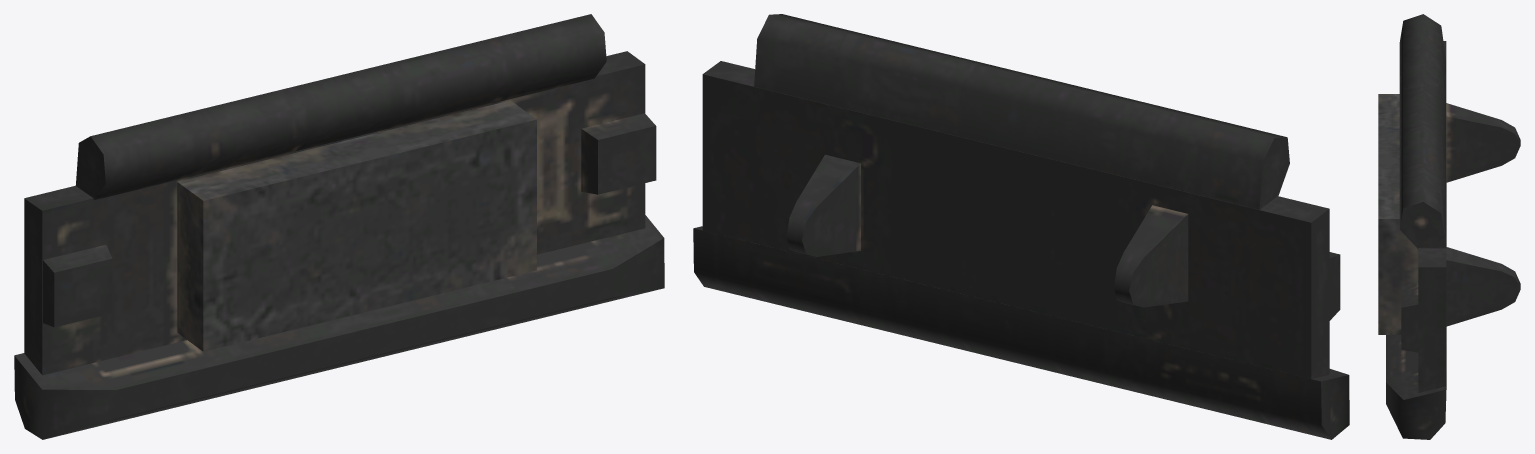
The picture shows the model from 3 angles, left to right: view 1: azimuth 30°, elevation 25°; view 2: azimuth 150°, elevation 25°; view 3: azimuth 270°, elevation 25°; orthographic projection. The views are drawn at different scales.
Visible parts, largest first — view 1: set_0_group_0; view 2: set_0_group_0; view 3: set_0_group_0.
Boxes of the visible parts, x1=… form: set_0_group_0: x1=14, y1=14, x2=664, y2=439; set_0_group_0: x1=693, y1=14, x2=1349, y2=439; set_0_group_0: x1=1378, y1=14, x2=1520, y2=439.
Bounding box in the file's own units: 0.3504 × 0.1512 × 0.0905.
1 material, 1 textured.
